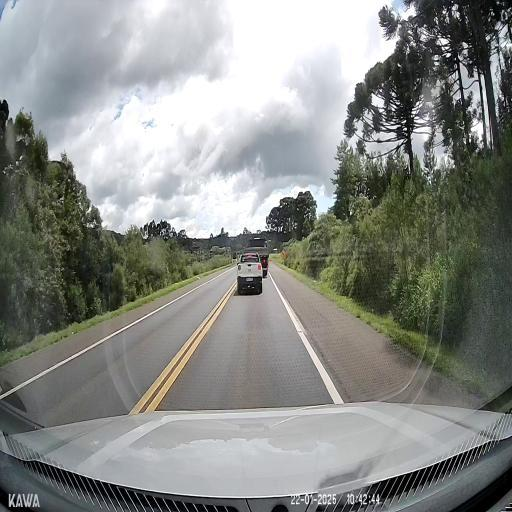A-2a: (281, 249, 286, 259)
